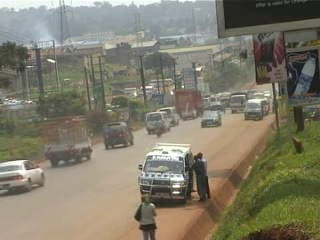Car: (0, 157, 48, 197), (98, 122, 136, 150), (198, 108, 225, 131), (207, 100, 226, 114)
Motorcycle: (151, 127, 163, 138)
